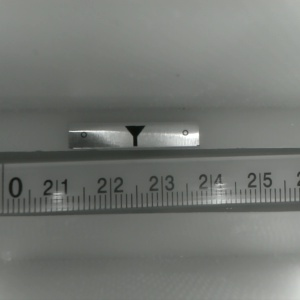0: (7, 176, 23, 198)
1: (60, 179, 67, 195)
2: (42, 179, 53, 195), (148, 175, 158, 191), (96, 177, 106, 193), (113, 177, 123, 193), (197, 174, 207, 189), (246, 172, 256, 187), (295, 171, 300, 187)
3: (164, 175, 173, 191)
4: (213, 173, 222, 187)
5: (262, 172, 272, 187)
finger: (123, 126, 145, 147)
